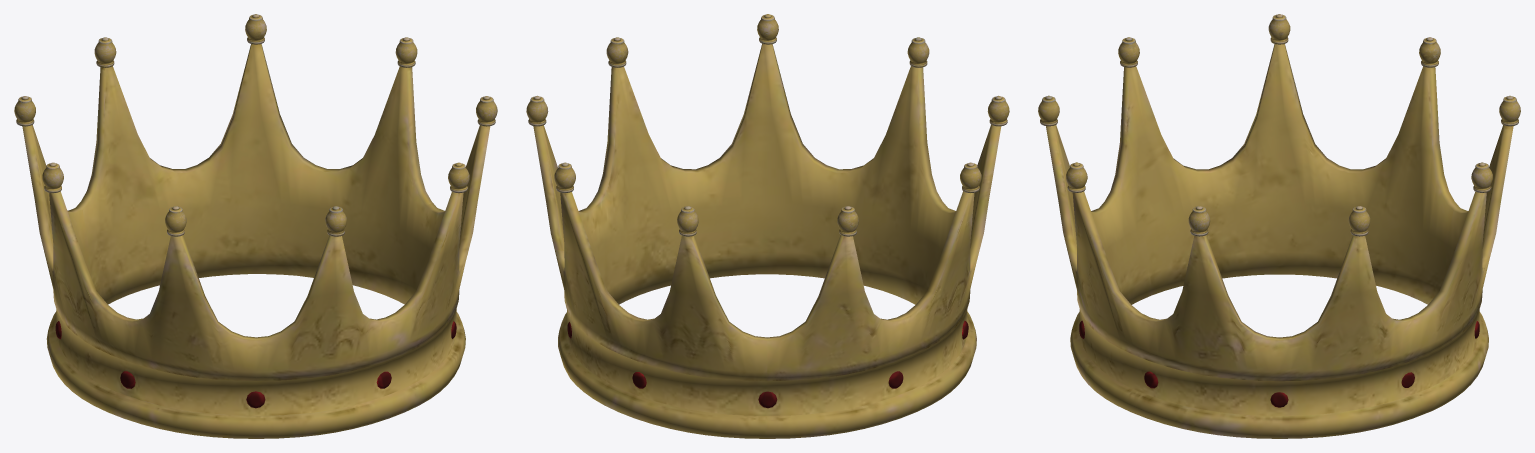
File: crown-transformed.glb
3 views of the same model, side by side, from view 1: azimuth 30°, elevation 25°; view 2: azimuth 150°, elevation 25°; view 3: azimuth 270°, elevation 25° (orthographic).
Parts seen in each view (by area): view 1: ironCrown.001; view 2: ironCrown.001; view 3: ironCrown.001.
Boxes of the visible parts, left/top/right/bottom form: ironCrown.001: left=14, top=14, right=497, bottom=438; ironCrown.001: left=526, top=14, right=1009, bottom=438; ironCrown.001: left=1038, top=14, right=1520, bottom=438.
Size of the model in its own units: 4.98 by 2.78 by 5.06.
Materials: 1 (1 with a texture image).
